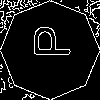P: (25, 25, 70, 58)
